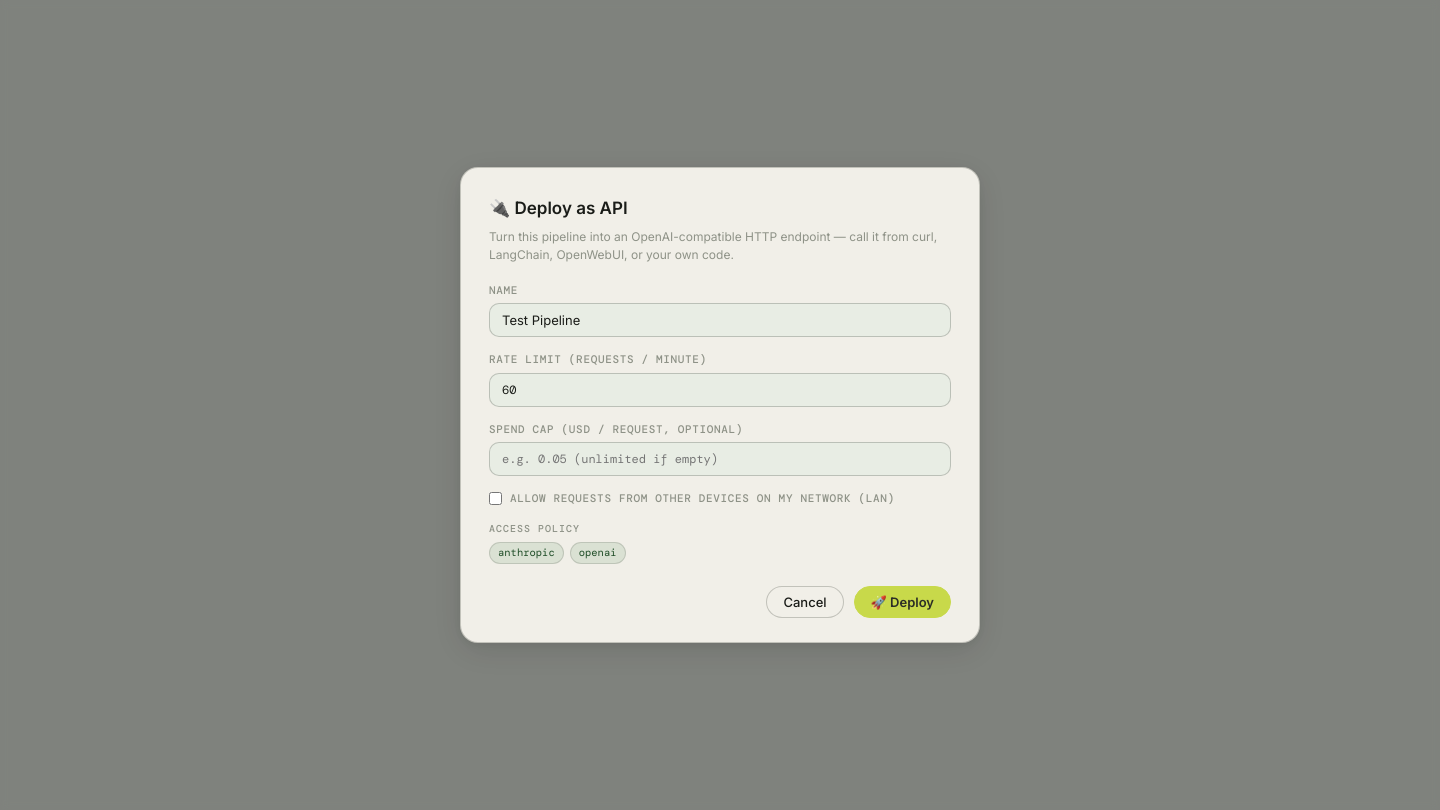
Test: DeployModal — create mode › canceling the LAN confirmation leaves LAN access off
This screenshot has width=1440, height=810.
Step 1. Click the checkbox with test id "deploy-lan-toggle" → click(496, 499), box [489,492,502,505]
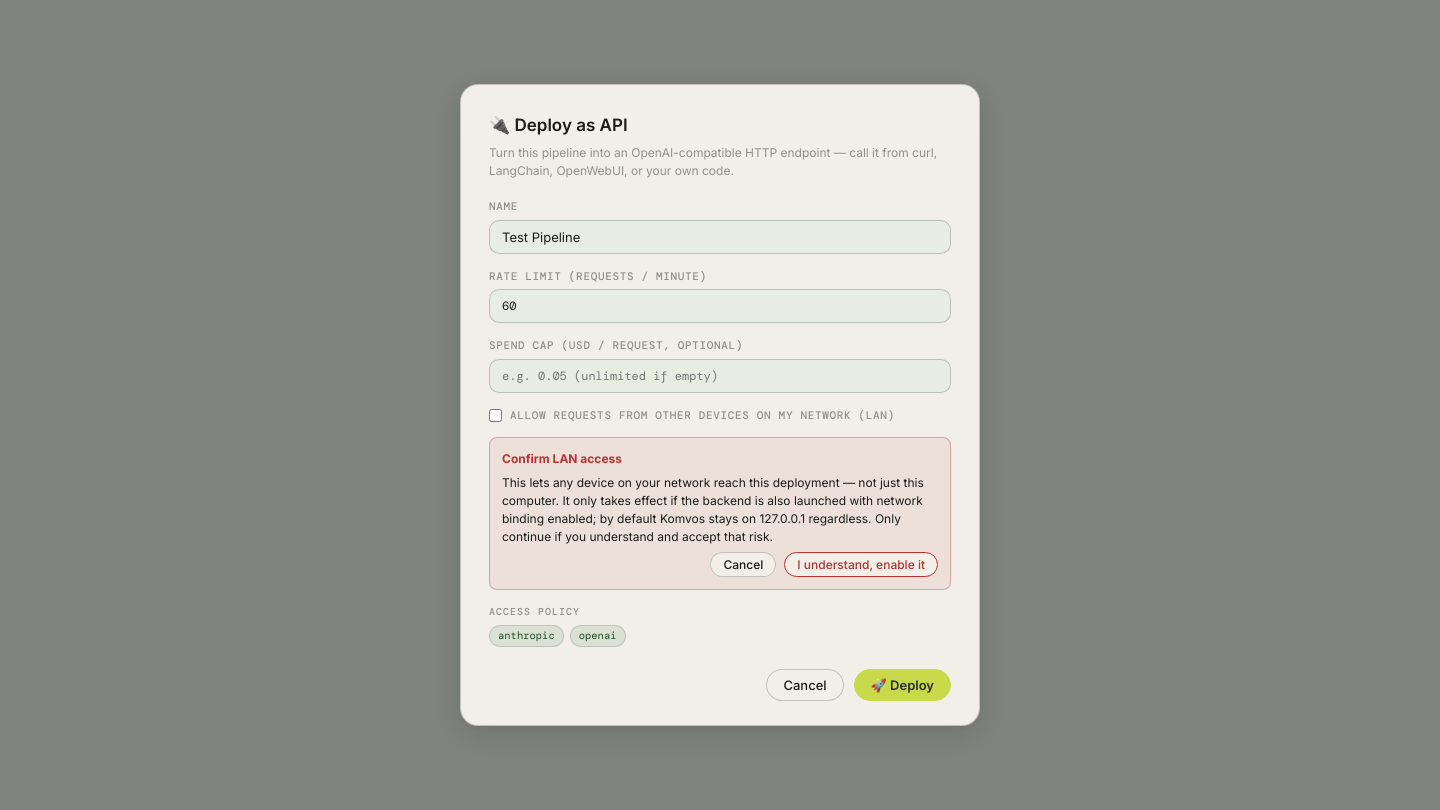
Step 2. Click the button with test id "deploy-lan-confirm-cancel" → click(743, 565), box [710,552,776,577]
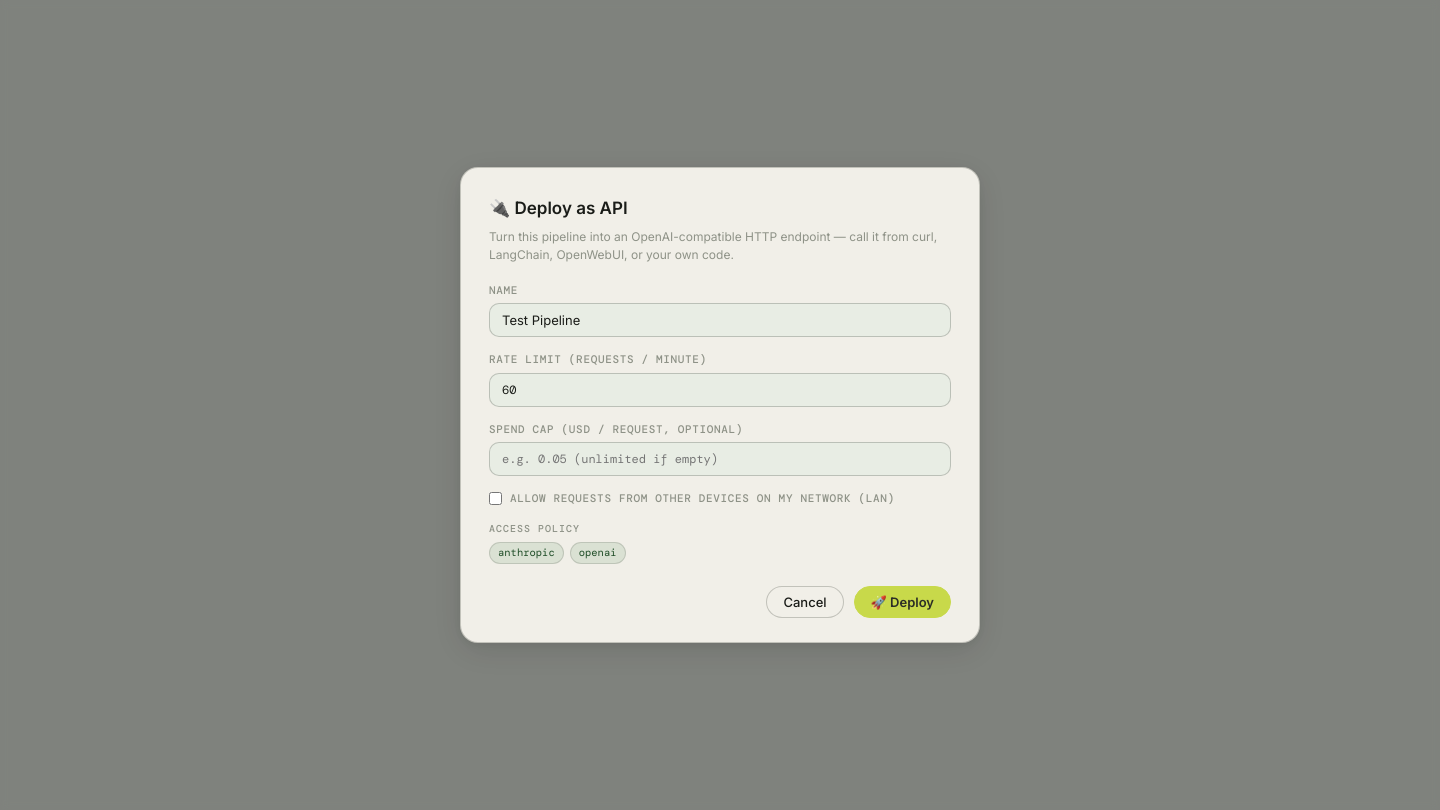
Expected: the checkbox with test id "deploy-lan-toggle" is not checked, [489,492,502,505]
Expected: the element with test id "deploy-lan-confirm" is gone
